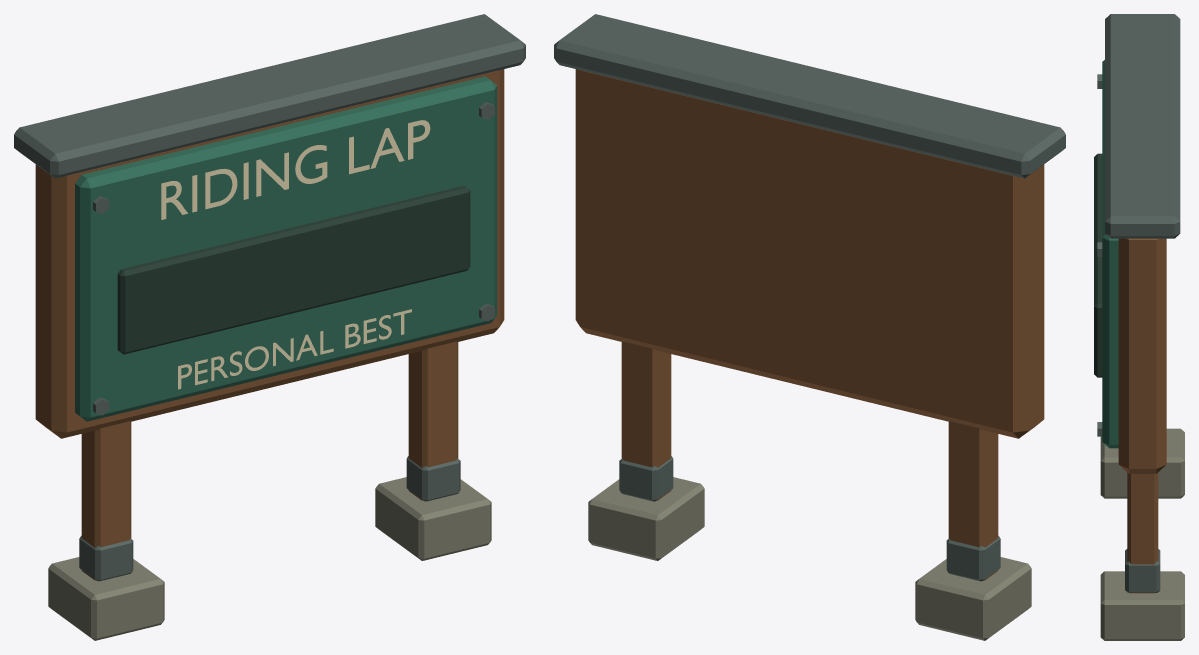
The model's file is w10b-riding-lap-board.glb.
3 views of the same model, side by side, from view 1: azimuth 30°, elevation 25°; view 2: azimuth 150°, elevation 25°; view 3: azimuth 270°, elevation 25° (orthographic). The views are drawn at different scales.
Visible parts, largest first — view 1: Score frame, Vacant record plane, Rain-shedding top cap, Enamel mounted plinth, Seated foot.001, Seated foot, Tenoned leg, Tenoned leg.001, RIDING LAP, PERSONAL BEST, Iron foot wrap, Iron foot wrap.001; view 2: Enamel mounted plinth, Rain-shedding top cap, Seated foot.001, Seated foot, Tenoned leg, Tenoned leg.001, Iron foot wrap, Iron foot wrap.001; view 3: Rain-shedding top cap, Enamel mounted plinth, Seated foot.001, Score frame, Tenoned leg.001, Seated foot, Vacant record plane, Iron foot wrap.001.
Boxes of the visible parts, bbox=[...] form: Score frame: bbox=[75, 76, 497, 421]; Vacant record plane: bbox=[117, 185, 470, 354]; Rain-shedding top cap: bbox=[14, 14, 525, 178]; Enamel mounted plinth: bbox=[35, 69, 504, 438]; Seated foot.001: bbox=[375, 477, 491, 560]; Seated foot: bbox=[48, 557, 164, 640]; Tenoned leg: bbox=[81, 421, 131, 580]; Tenoned leg.001: bbox=[408, 341, 458, 500]; RIDING LAP: bbox=[161, 120, 430, 219]; PERSONAL BEST: bbox=[178, 309, 411, 389]; Iron foot wrap: bbox=[79, 536, 133, 581]; Iron foot wrap.001: bbox=[406, 456, 460, 501]; Enamel mounted plinth: bbox=[575, 69, 1044, 438]; Rain-shedding top cap: bbox=[554, 14, 1065, 178]; Seated foot.001: bbox=[588, 477, 704, 560]; Seated foot: bbox=[915, 557, 1031, 640]; Tenoned leg: bbox=[948, 421, 998, 580]; Tenoned leg.001: bbox=[621, 341, 671, 500]; Iron foot wrap: bbox=[946, 536, 1000, 581]; Iron foot wrap.001: bbox=[619, 456, 673, 501]; Rain-shedding top cap: bbox=[1105, 14, 1180, 238]; Enamel mounted plinth: bbox=[1118, 238, 1166, 473]; Seated foot.001: bbox=[1100, 571, 1184, 640]; Score frame: bbox=[1102, 60, 1118, 448]; Tenoned leg.001: bbox=[1127, 472, 1158, 593]; Seated foot: bbox=[1100, 428, 1184, 498]; Vacant record plane: bbox=[1094, 153, 1102, 377]; Iron foot wrap.001: bbox=[1125, 549, 1160, 592].
Bounding box in the file's own units: 2.27 × 2.25 × 0.42.
